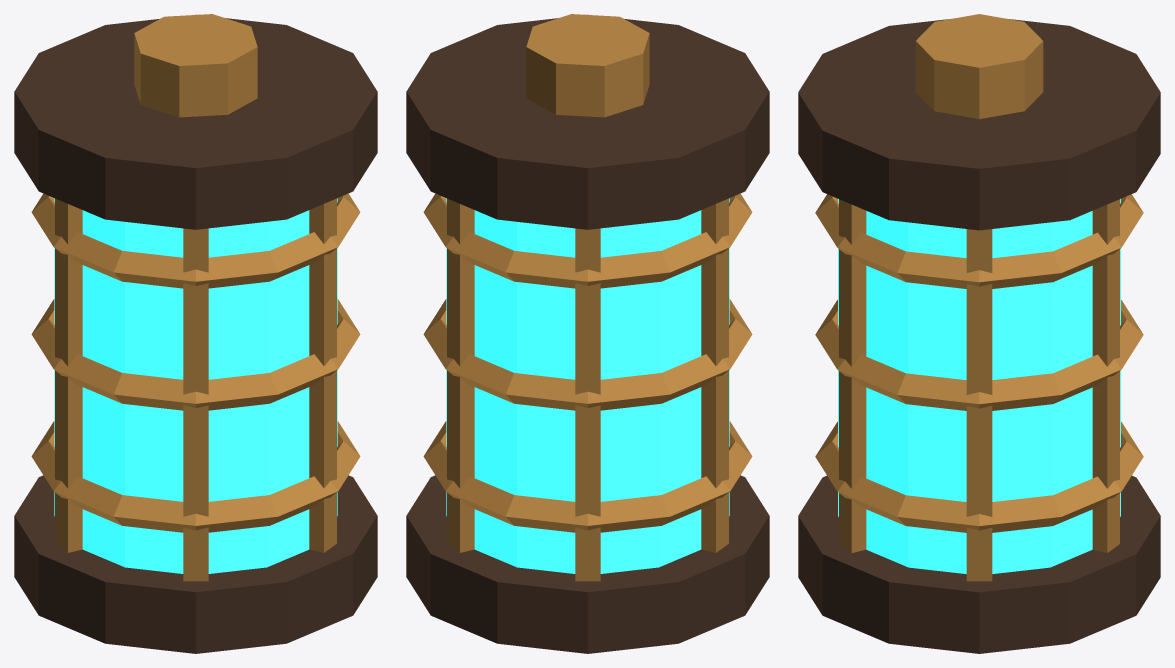
File: energy_cell.glb
The picture shows the model from 3 angles, left to right: view 1: azimuth 30°, elevation 25°; view 2: azimuth 150°, elevation 25°; view 3: azimuth 270°, elevation 25°; orthographic projection.
Parts seen in each view (by area): view 1: EndCap.001, CellCore, EndCap, Terminal, CellBand, CellBand.001, CellBand.002, Rail.004, Rail.003, Rail.005; view 2: EndCap.001, CellCore, EndCap, Terminal, CellBand, CellBand.001, CellBand.002, Rail.002, Rail.001, Rail.003; view 3: EndCap.001, CellCore, EndCap, Terminal, CellBand.001, CellBand, CellBand.002, Rail, Rail.001, Rail.005.
Part boxes in pixels (bbox=[...]): EndCap.001: bbox=[14, 14, 377, 229]; CellCore: bbox=[54, 198, 337, 573]; EndCap: bbox=[14, 475, 377, 653]; Terminal: bbox=[134, 14, 257, 117]; CellBand: bbox=[31, 421, 360, 532]; CellBand.001: bbox=[31, 299, 360, 410]; CellBand.002: bbox=[31, 193, 360, 288]; Rail.004: bbox=[183, 228, 208, 581]; Rail.003: bbox=[55, 198, 82, 552]; Rail.005: bbox=[309, 198, 336, 552]; EndCap.001: bbox=[406, 14, 769, 229]; CellCore: bbox=[446, 198, 729, 573]; EndCap: bbox=[406, 475, 769, 653]; Terminal: bbox=[526, 14, 649, 117]; CellBand: bbox=[423, 421, 752, 532]; CellBand.001: bbox=[423, 299, 752, 410]; CellBand.002: bbox=[423, 193, 752, 288]; Rail.002: bbox=[575, 228, 600, 581]; Rail.001: bbox=[447, 198, 474, 552]; Rail.003: bbox=[701, 198, 728, 552]; EndCap.001: bbox=[798, 19, 1160, 230]; CellCore: bbox=[838, 199, 1120, 573]; EndCap: bbox=[798, 475, 1160, 653]; Terminal: bbox=[915, 14, 1043, 118]; CellBand.001: bbox=[815, 300, 1143, 410]; CellBand: bbox=[815, 422, 1143, 532]; CellBand.002: bbox=[815, 194, 1143, 288]; Rail: bbox=[966, 229, 992, 581]; Rail.001: bbox=[1092, 199, 1119, 552]; Rail.005: bbox=[839, 199, 866, 552].
Bounding box in the file's own units: 2.56 × 4.18 × 2.56.
